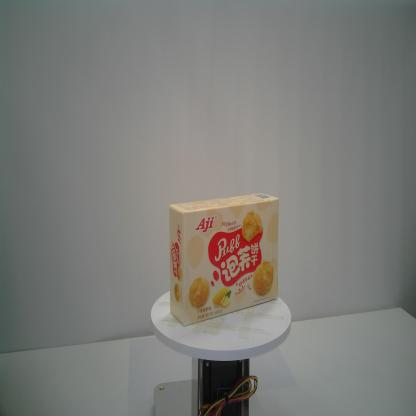Dessert: (167, 192, 280, 328)
